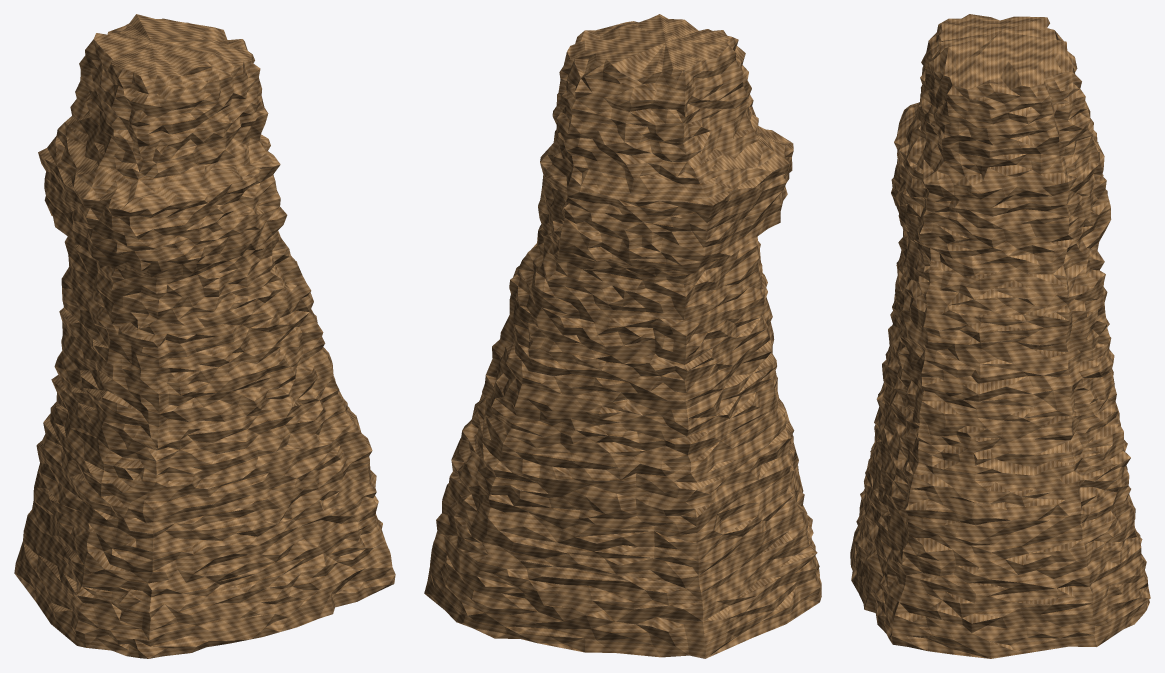
The model's file is 0001_01_meehni_irregular_stepped_summit.dae.
3 views of the same model, side by side, from view 1: azimuth 30°, elevation 25°; view 2: azimuth 150°, elevation 25°; view 3: azimuth 270°, elevation 25° (orthographic). The views are drawn at different scales.
Parts seen in each view (by area): view 1: Node; view 2: Node; view 3: Node.
Part boxes in pixels (x1,y1,x2,y2): Node: [14, 14, 395, 658]; Node: [424, 14, 821, 658]; Node: [850, 14, 1150, 658].
Size of the model in its own units: 15.96 by 13.29 by 25.82.
